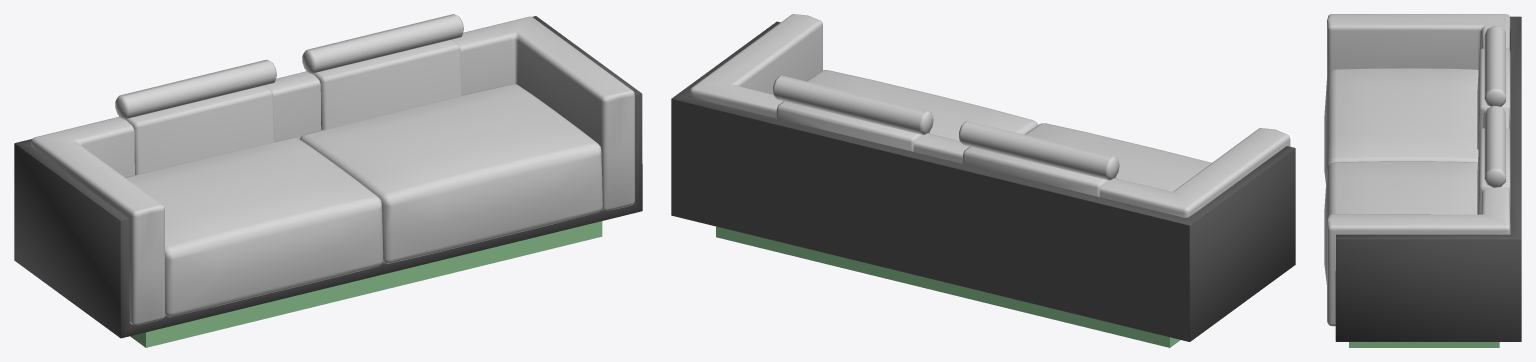
File: MZCSF06.FBX
3 views of the same model, side by side, from view 1: azimuth 30°, elevation 25°; view 2: azimuth 150°, elevation 25°; view 3: azimuth 270°, elevation 25° (orthographic). The views are drawn at different scales.
Visible parts, largest first — view 1: MZCSF06; view 2: MZCSF06; view 3: MZCSF06.
Boxes of the visible parts, x1,y1,x2,y2 form: MZCSF06: [14, 14, 642, 347]; MZCSF06: [671, 14, 1295, 347]; MZCSF06: [1324, 14, 1521, 347].
Size of the model in its own units: 240 by 90 by 77.
